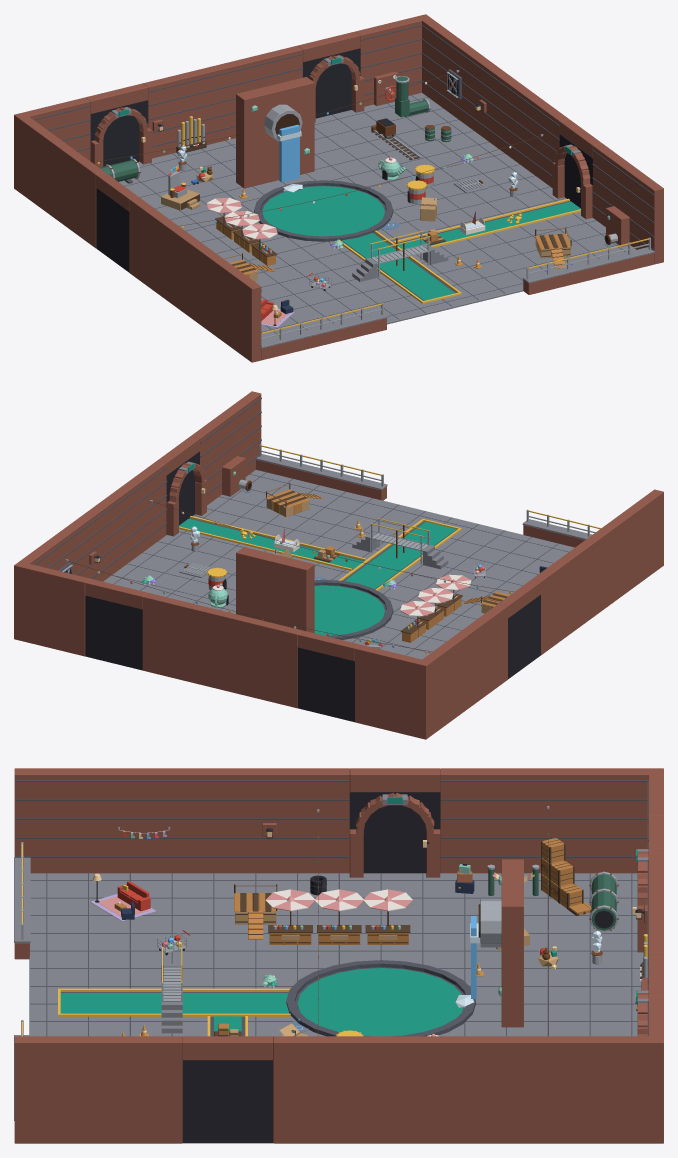
File: CatCafe_Sewer_Set.glb
3 renders of one model, top to bottom at view 1: azimuth 30°, elevation 25°; view 2: azimuth 150°, elevation 25°; view 3: azimuth 270°, elevation 25°, orthographic. The views are drawn at different scales.
Parts seen in each view (by area): view 1: CatCafe_Sewer_Set, CatCafe_Sewer_Set_000_PipeOutlet, CatCafe_Sewer_Set_005_Catwalk, CatCafe_Sewer_Set_004_TunnelArch, CatCafe_Sewer_Set_001_TunnelArch, CatCafe_Sewer_Set_002_TunnelArch, CatCafe_Sewer_Set_035_CrateDeck, CatCafe_Sewer_Set_006_BottlecapThrone, CatCafe_Sewer_Set_024_JunkStall, CatCafe_Sewer_Set_015_DrainPipe, CatCafe_Sewer_Set_012_PipeElbow, CatCafe_Sewer_Set_039_PipeOrgan (+5 smaller); view 2: CatCafe_Sewer_Set, CatCafe_Sewer_Set_000_PipeOutlet, CatCafe_Sewer_Set_005_Catwalk, CatCafe_Sewer_Set_004_TunnelArch, CatCafe_Sewer_Set_035_CrateDeck, CatCafe_Sewer_Set_015_DrainPipe, CatCafe_Sewer_Set_026_JunkStall, CatCafe_Sewer_Set_024_JunkStall, CatCafe_Sewer_Set_025_JunkStall; view 3: CatCafe_Sewer_Set, CatCafe_Sewer_Set_000_PipeOutlet, CatCafe_Sewer_Set_003_TunnelArch, CatCafe_Sewer_Set_023_CrateStack, CatCafe_Sewer_Set_026_JunkStall, CatCafe_Sewer_Set_024_JunkStall, CatCafe_Sewer_Set_025_JunkStall, CatCafe_Sewer_Set_005_Catwalk, CatCafe_Sewer_Set_034_CrateDeck, CatCafe_Sewer_Set_011_PipeLarge, CatCafe_Sewer_Set_033_LostLounge, CatCafe_Sewer_Set_001_TunnelArch.
Boxes of the visible parts, bbox=[...] form: CatCafe_Sewer_Set: bbox=[14, 14, 663, 362]; CatCafe_Sewer_Set_000_PipeOutlet: bbox=[236, 77, 314, 192]; CatCafe_Sewer_Set_005_Catwalk: bbox=[352, 231, 448, 281]; CatCafe_Sewer_Set_004_TunnelArch: bbox=[552, 144, 592, 219]; CatCafe_Sewer_Set_001_TunnelArch: bbox=[91, 107, 151, 167]; CatCafe_Sewer_Set_002_TunnelArch: bbox=[309, 55, 364, 122]; CatCafe_Sewer_Set_035_CrateDeck: bbox=[535, 227, 571, 268]; CatCafe_Sewer_Set_006_BottlecapThrone: bbox=[161, 166, 199, 210]; CatCafe_Sewer_Set_024_JunkStall: bbox=[242, 224, 277, 265]; CatCafe_Sewer_Set_015_DrainPipe: bbox=[604, 206, 629, 246]; CatCafe_Sewer_Set_012_PipeElbow: bbox=[395, 76, 430, 117]; CatCafe_Sewer_Set_039_PipeOrgan: bbox=[176, 116, 206, 153]; CatCafe_Sewer_Set: bbox=[14, 391, 663, 739]; CatCafe_Sewer_Set_000_PipeOutlet: bbox=[236, 547, 314, 633]; CatCafe_Sewer_Set_005_Catwalk: bbox=[352, 518, 448, 569]; CatCafe_Sewer_Set_004_TunnelArch: bbox=[167, 461, 206, 536]; CatCafe_Sewer_Set_035_CrateDeck: bbox=[266, 483, 323, 517]; CatCafe_Sewer_Set_015_DrainPipe: bbox=[222, 456, 252, 496]; CatCafe_Sewer_Set_026_JunkStall: bbox=[400, 601, 435, 642]; CatCafe_Sewer_Set_024_JunkStall: bbox=[436, 574, 471, 616]; CatCafe_Sewer_Set_025_JunkStall: bbox=[418, 588, 453, 629]; CatCafe_Sewer_Set: bbox=[14, 768, 663, 1143]; CatCafe_Sewer_Set_000_PipeOutlet: bbox=[455, 859, 523, 1027]; CatCafe_Sewer_Set_003_TunnelArch: bbox=[349, 793, 440, 877]; CatCafe_Sewer_Set_023_CrateStack: bbox=[541, 837, 591, 915]; CatCafe_Sewer_Set_026_JunkStall: bbox=[363, 889, 413, 944]; CatCafe_Sewer_Set_024_JunkStall: bbox=[265, 889, 315, 944]; CatCafe_Sewer_Set_025_JunkStall: bbox=[315, 889, 363, 944]; CatCafe_Sewer_Set_005_Catwalk: bbox=[161, 947, 182, 1033]; CatCafe_Sewer_Set_034_CrateDeck: bbox=[234, 884, 277, 939]; CatCafe_Sewer_Set_011_PipeLarge: bbox=[589, 871, 618, 931]; CatCafe_Sewer_Set_033_LostLounge: bbox=[90, 881, 155, 921]; CatCafe_Sewer_Set_001_TunnelArch: bbox=[635, 849, 648, 952].
Size of the model in its own units: 93.2 by 19.6 by 93.3.
Materials: 1 (1 with a texture image).
